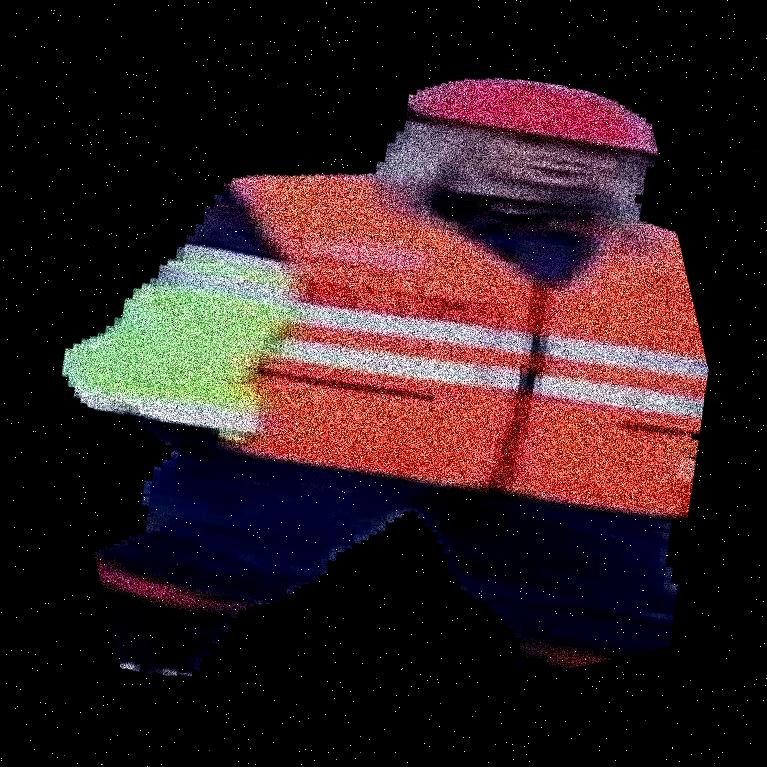Pessoa: (205, 0, 766, 766)
